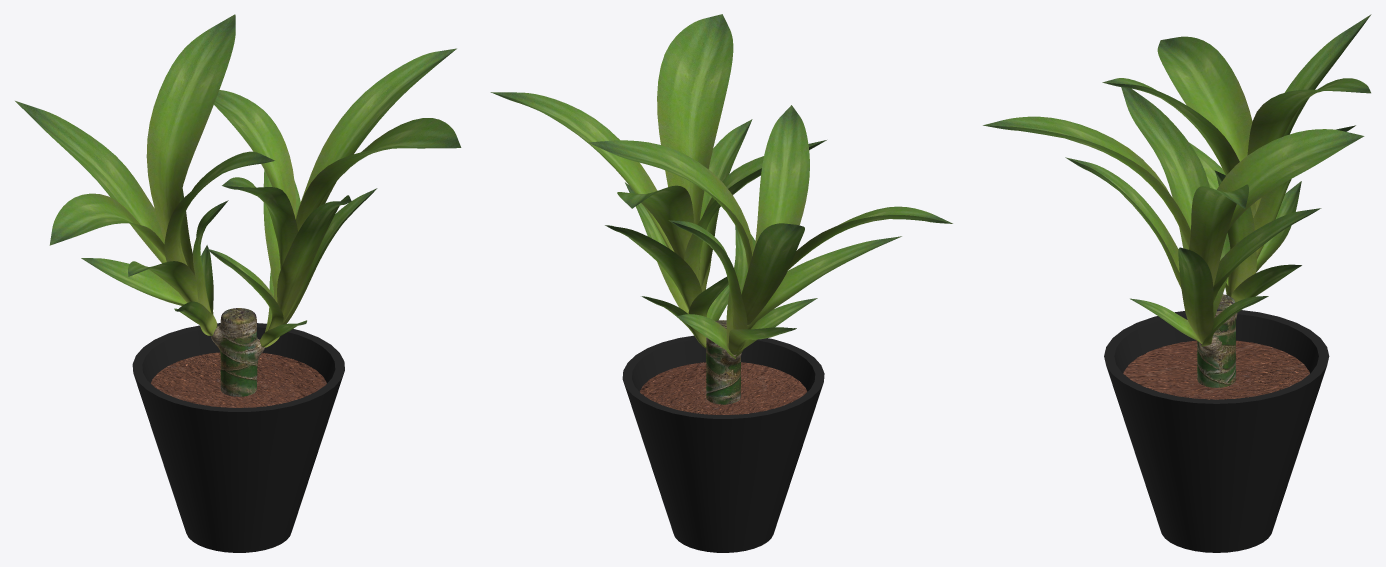
The model's file is Grass Bomb (Cone).fbx.
3 views of the same model, side by side, from view 1: azimuth 30°, elevation 25°; view 2: azimuth 150°, elevation 25°; view 3: azimuth 270°, elevation 25° (orthographic). The views are drawn at different scales.
Visible parts, largest first — view 1: Plant, Pot, Soil; view 2: Plant, Pot, Soil; view 3: Plant, Pot, Soil.
Boxes of the visible parts, bbox=[...] form: Plant: bbox=[15, 14, 461, 396]; Pot: bbox=[132, 323, 344, 552]; Soil: bbox=[151, 352, 326, 407]; Plant: bbox=[490, 14, 952, 404]; Pot: bbox=[622, 335, 824, 552]; Soil: bbox=[640, 362, 806, 414]; Plant: bbox=[983, 14, 1371, 387]; Pot: bbox=[1104, 310, 1329, 552]; Soil: bbox=[1123, 340, 1309, 399].
Size of the model in its own units: 341 by 325 by 243.
